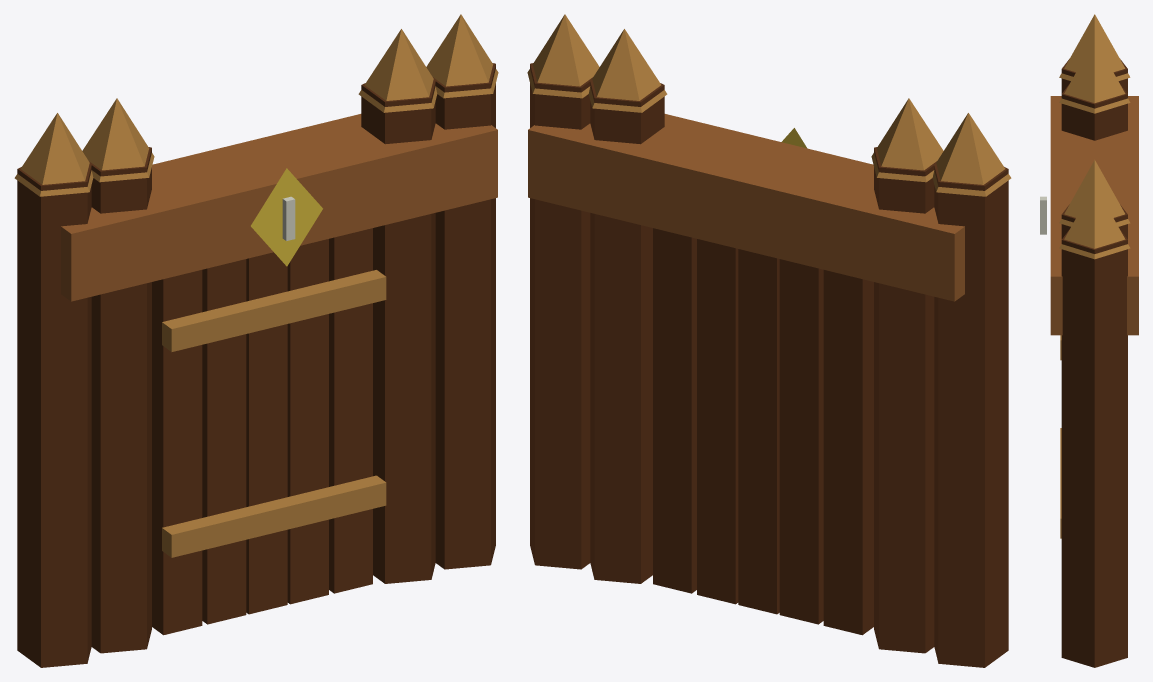
File: castle_gate_l1.fbx
3 views of the same model, side by side, from view 1: azimuth 30°, elevation 25°; view 2: azimuth 150°, elevation 25°; view 3: azimuth 270°, elevation 25° (orthographic). The views are drawn at different scales.
Visible parts, largest first — view 1: castle_gate_l1; view 2: castle_gate_l1; view 3: castle_gate_l1.
Part boxes in pixels (bbox=[...]): castle_gate_l1: bbox=[14, 14, 498, 667]; castle_gate_l1: bbox=[527, 14, 1011, 667]; castle_gate_l1: bbox=[1040, 14, 1138, 667].
Size of the model in its own units: 1.82 by 2 by 0.381.
